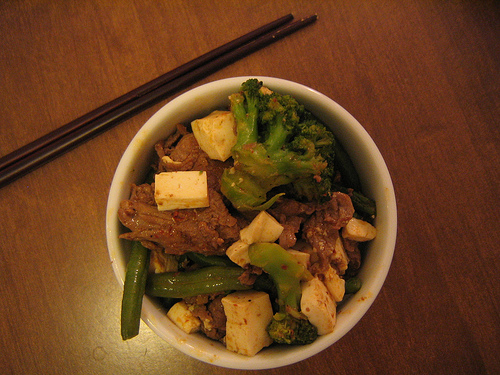broccoli: (228, 82, 338, 188), (246, 241, 320, 349)
